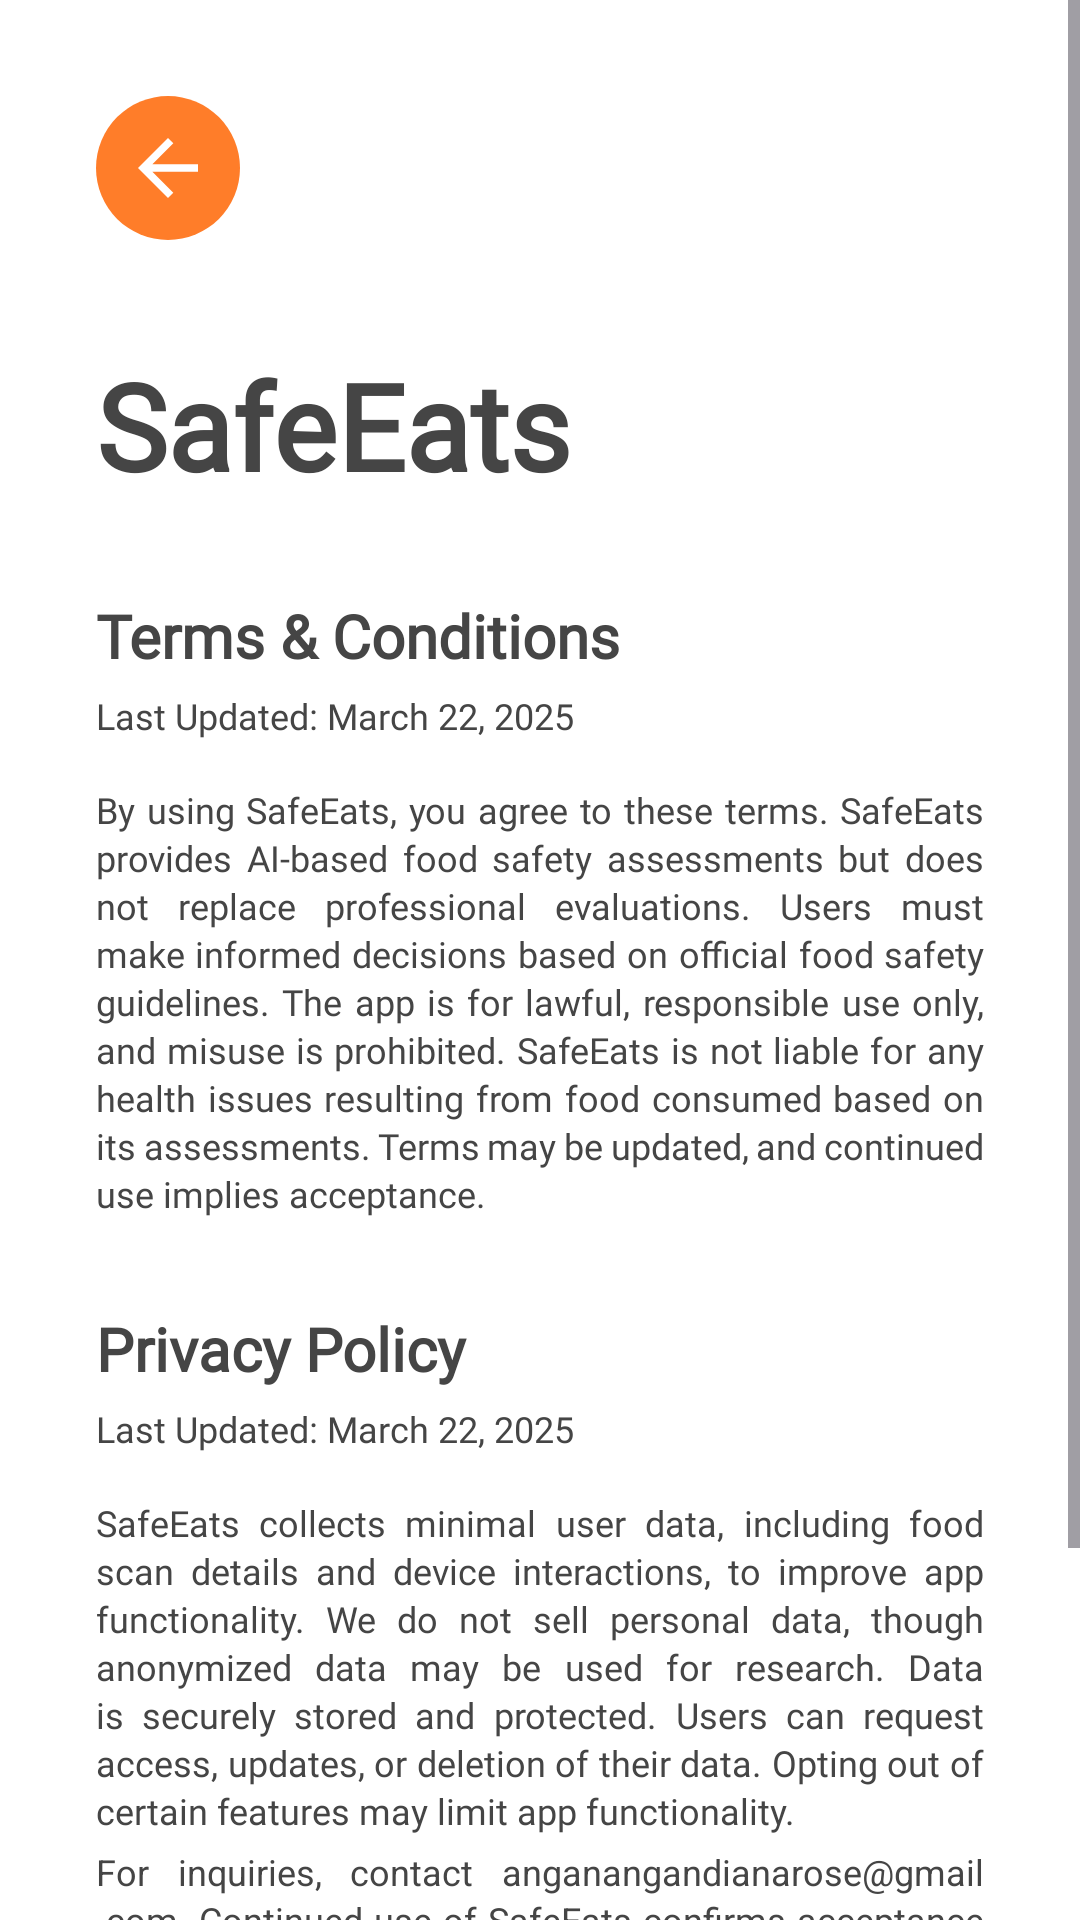

Point at icon controls on the screen. Image size 1080w x 1920h, points as point (x, y).
Go back: point (168, 168)
